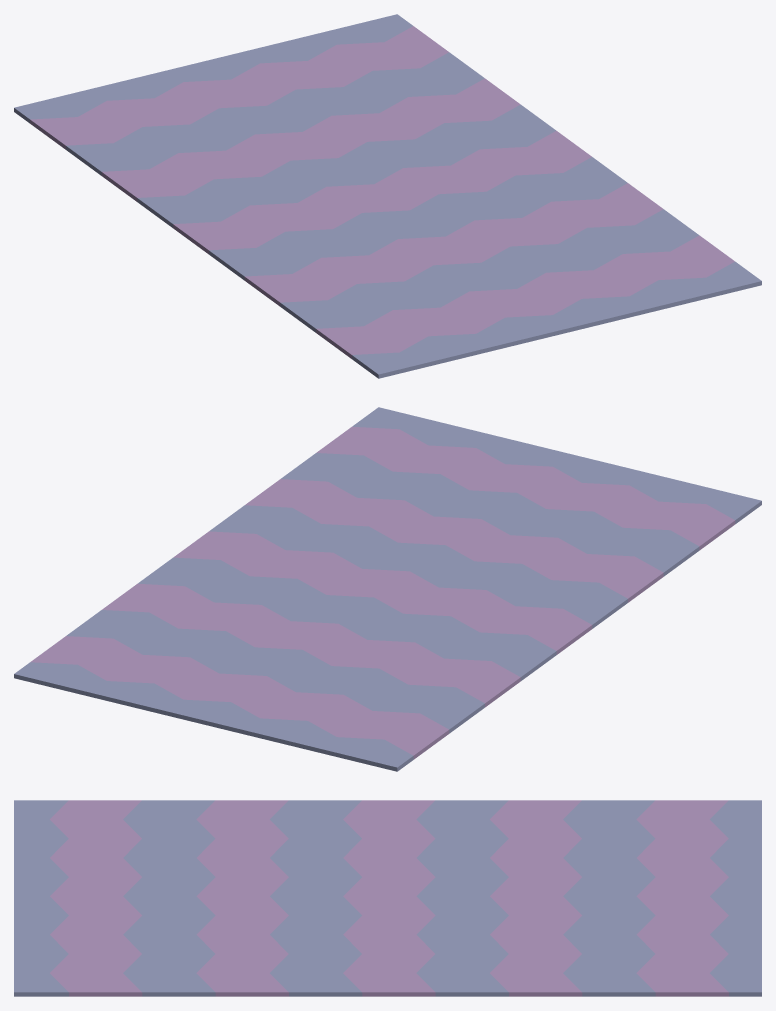
The model's file is CarpetZigZag1.fbx.
The picture shows the model from 3 angles, top to bottom: view 1: azimuth 30°, elevation 25°; view 2: azimuth 150°, elevation 25°; view 3: azimuth 270°, elevation 25°; orthographic projection. The views are drawn at different scales.
Visible parts, largest first — view 1: Cube; view 2: Cube; view 3: Cube.
Part boxes in pixels (x1,y1,x2,y2): Cube: (14,14,761,378); Cube: (14,407,761,771); Cube: (14,800,761,996).
Bounding box in the file's own units: 1321 × 2176 × 13.92.
